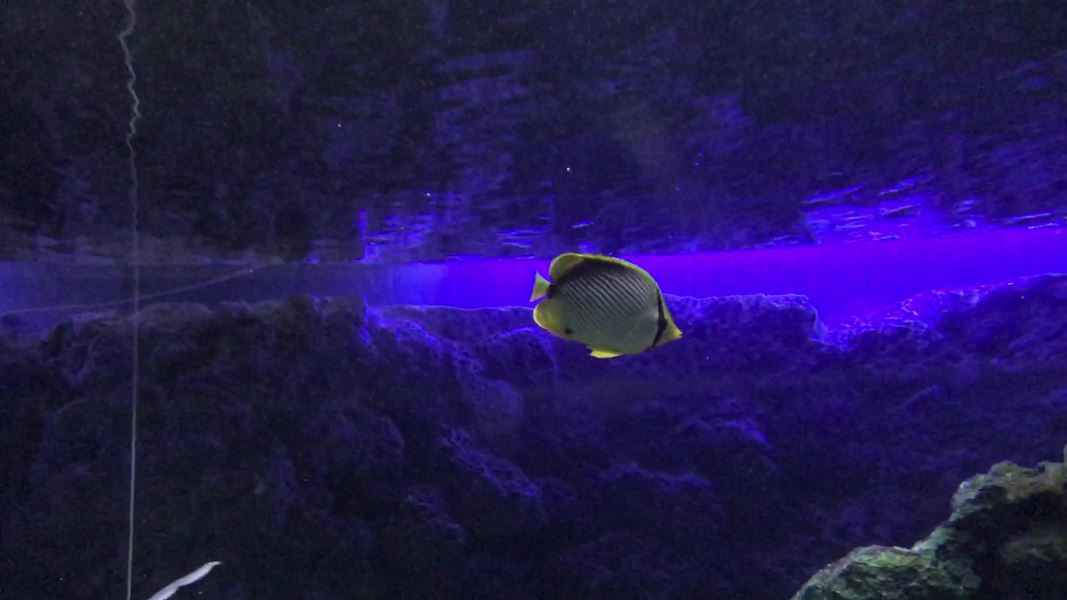Black-backed butterflyfish: (516, 246, 691, 369)
